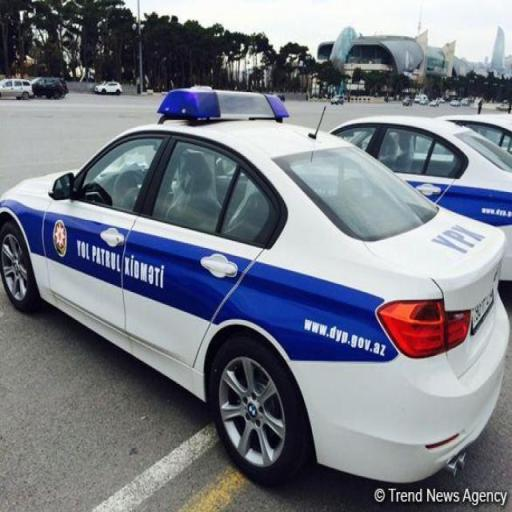Ambulance: (1, 88, 512, 487)
